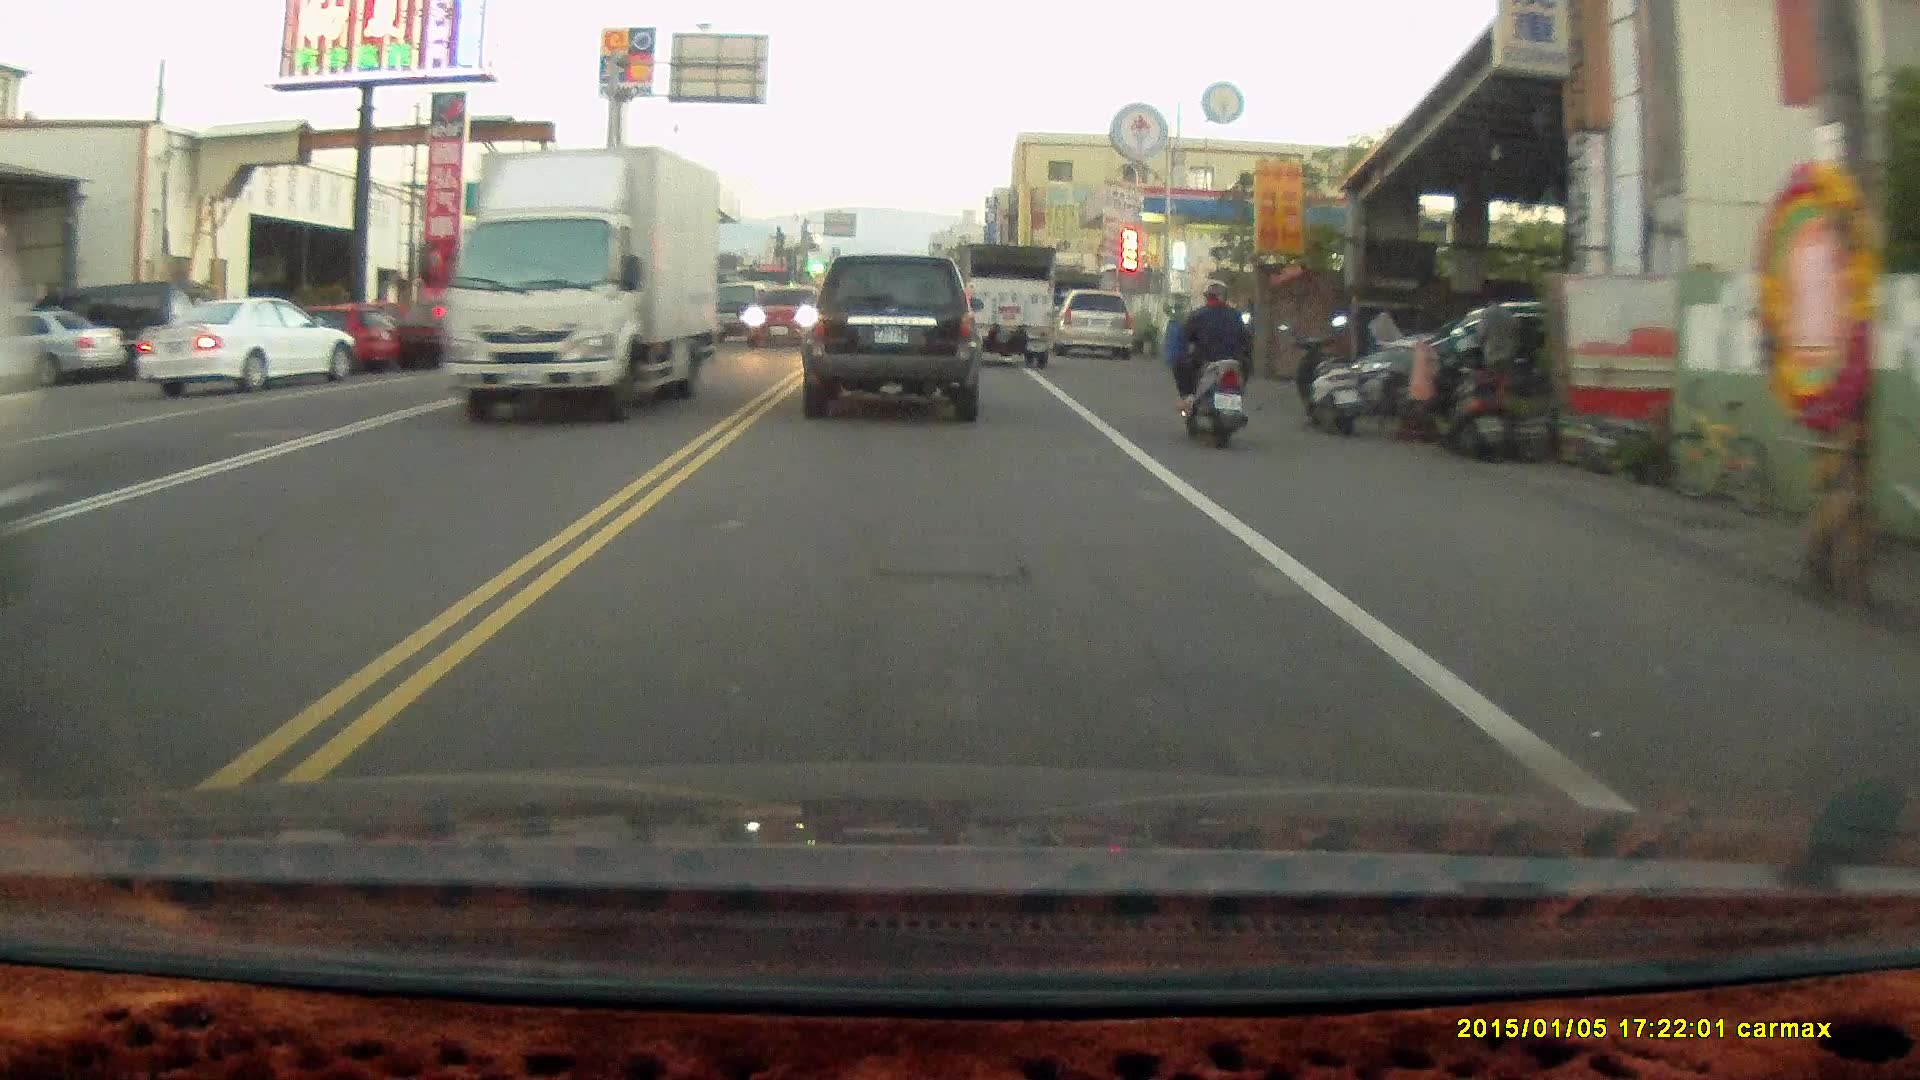pedestrian: (1472, 287, 1522, 421)
rider: (1166, 276, 1251, 451)
vehicle: (449, 140, 728, 428), (797, 248, 983, 420), (137, 299, 364, 401), (964, 237, 1057, 364), (11, 304, 127, 381), (1056, 285, 1134, 358)
